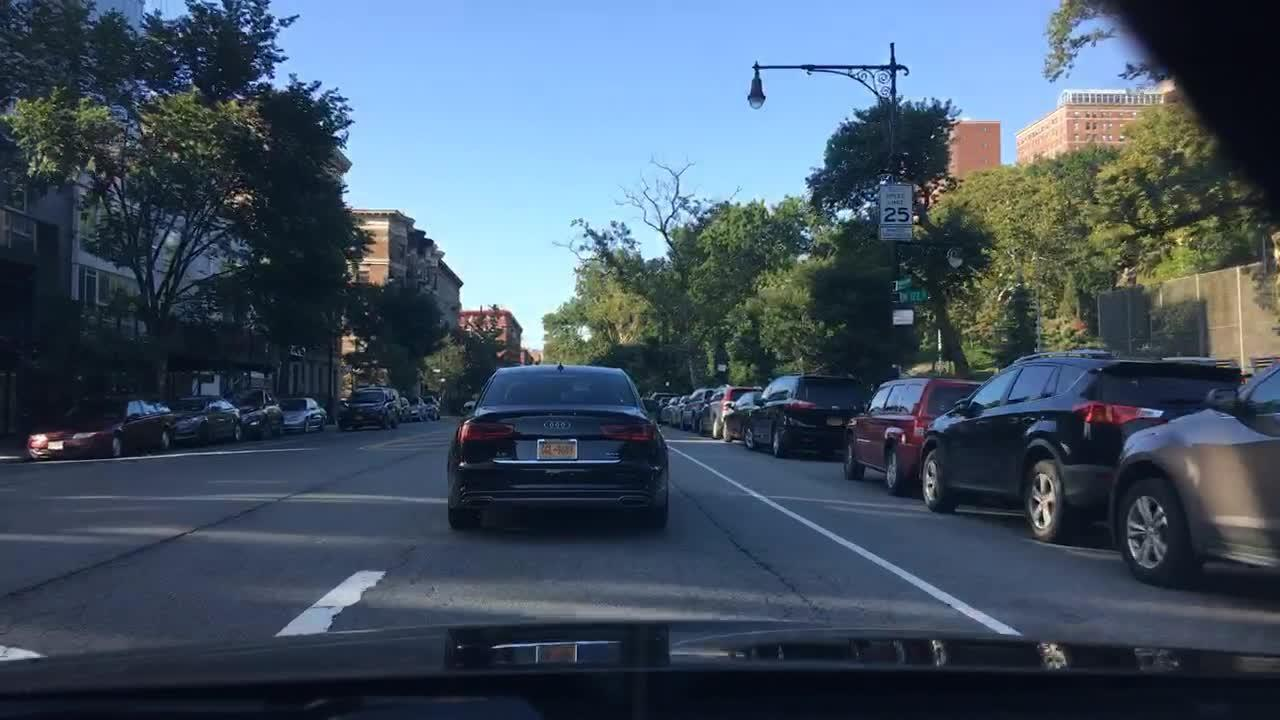Audi: (535, 412, 589, 434)
